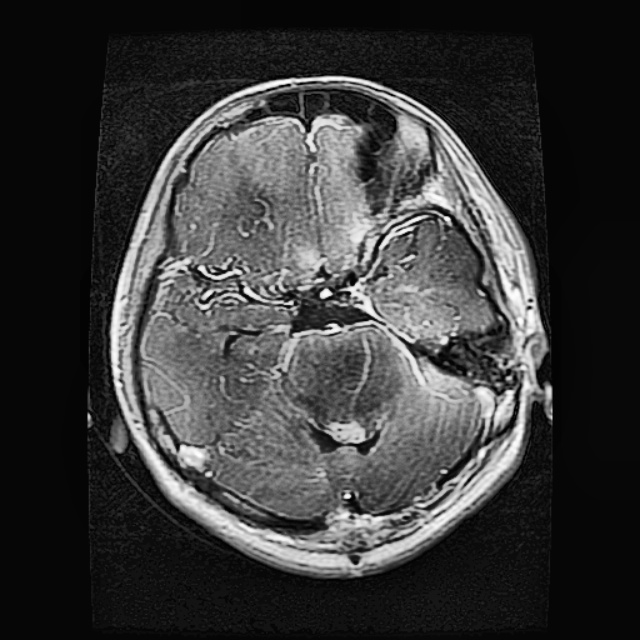Glioma: (364, 220, 489, 345)
